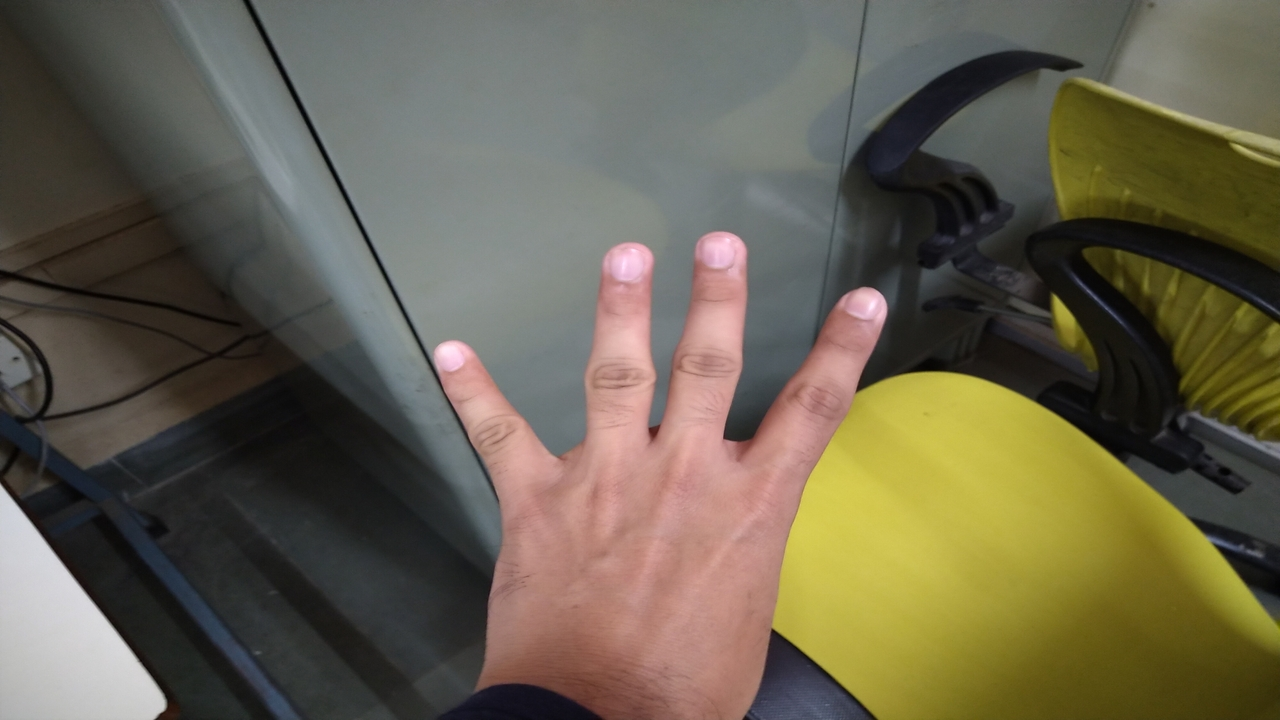fingertip: (684, 224, 752, 290), (826, 278, 896, 342), (592, 234, 658, 298), (424, 330, 482, 390)
